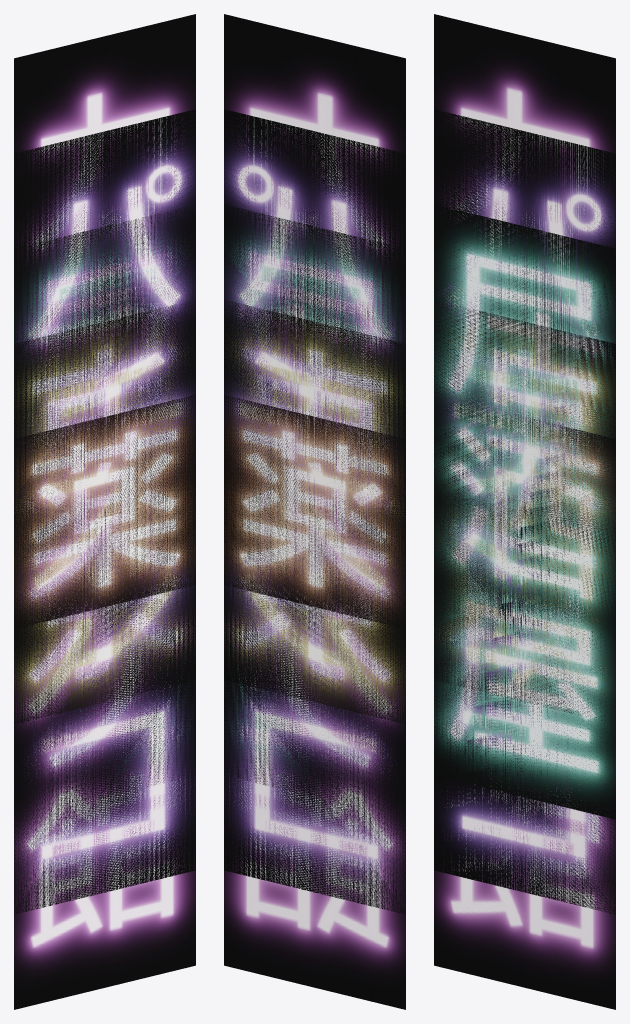
File: japanese-neon-sign-set--low-poly-for-bac-188e5d.glb
3 views of the same model, side by side, from view 1: azimuth 30°, elevation 25°; view 2: azimuth 150°, elevation 25°; view 3: azimuth 330°, elevation 25° (orthographic).
Visible parts, largest first — view 1: PropMesh; view 2: PropMesh; view 3: PropMesh.
Boxes of the visible parts, x1,y1,x2,y2 form: PropMesh: (14,14,195,1009); PropMesh: (224,14,405,1009); PropMesh: (434,14,615,1009).
Bounding box in the file's own units: 0.4401 × 2.2 × 0.
18 materials, 18 textured.
